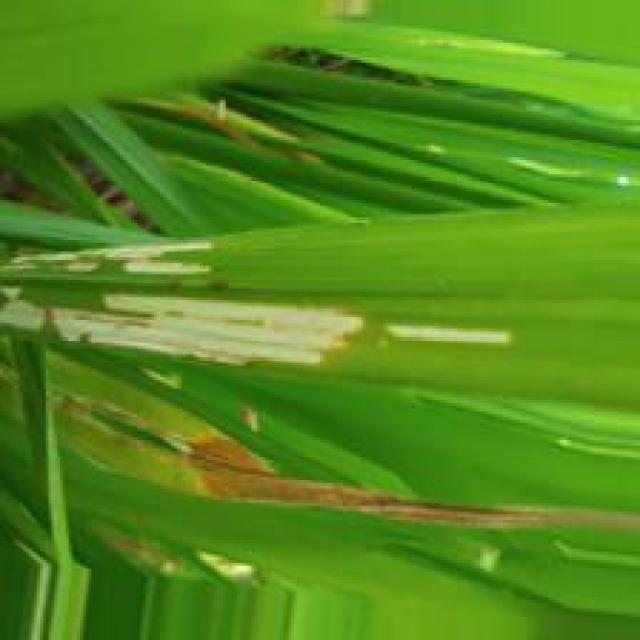Rice_Hispa: (0, 291, 375, 368), (4, 242, 214, 275), (372, 327, 517, 347)
